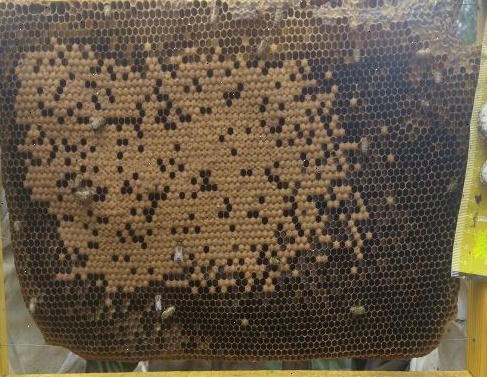cria: (12, 38, 373, 310)
